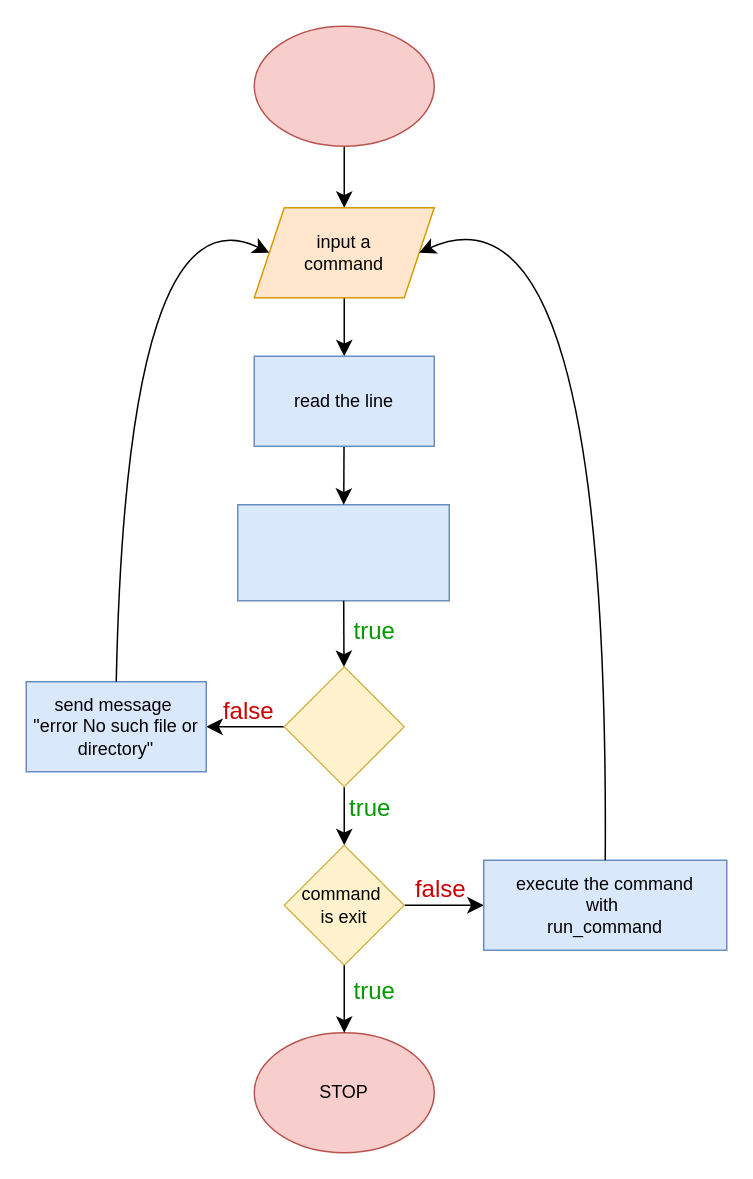
Image size: 753x1179. Some labels were removed from this diagram. The centre of each missing label's shape, as x and y in pixels:
"built in command" belongs at (x=343, y=726).
"search a command" belongs at (x=342, y=552).
"start" belongs at (x=343, y=85).
